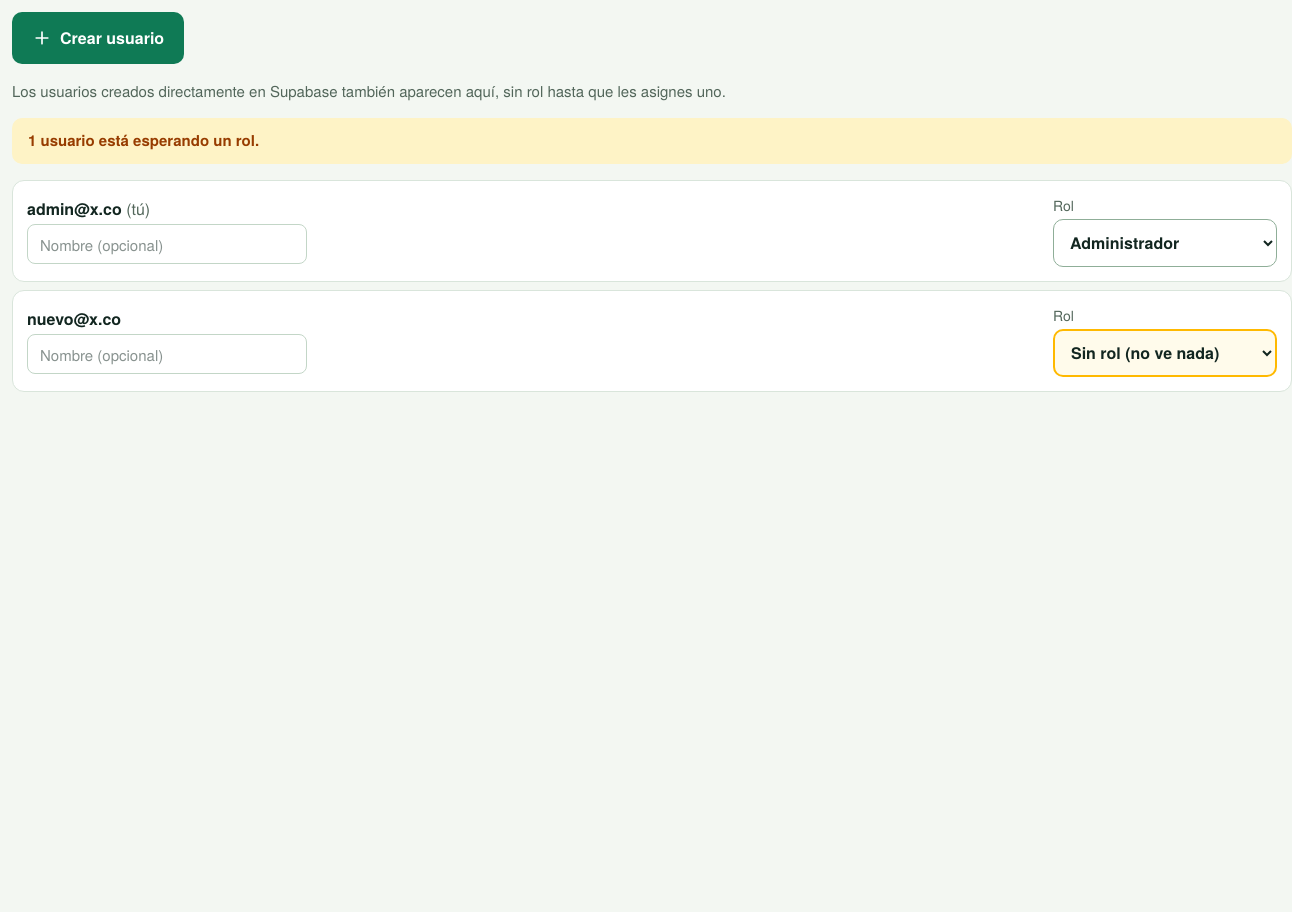
Crear usuario › si falla, muestra el motivo
Step 1. Click the button "Crear usuario" → x=98, y=38, box [12, 12, 184, 64]
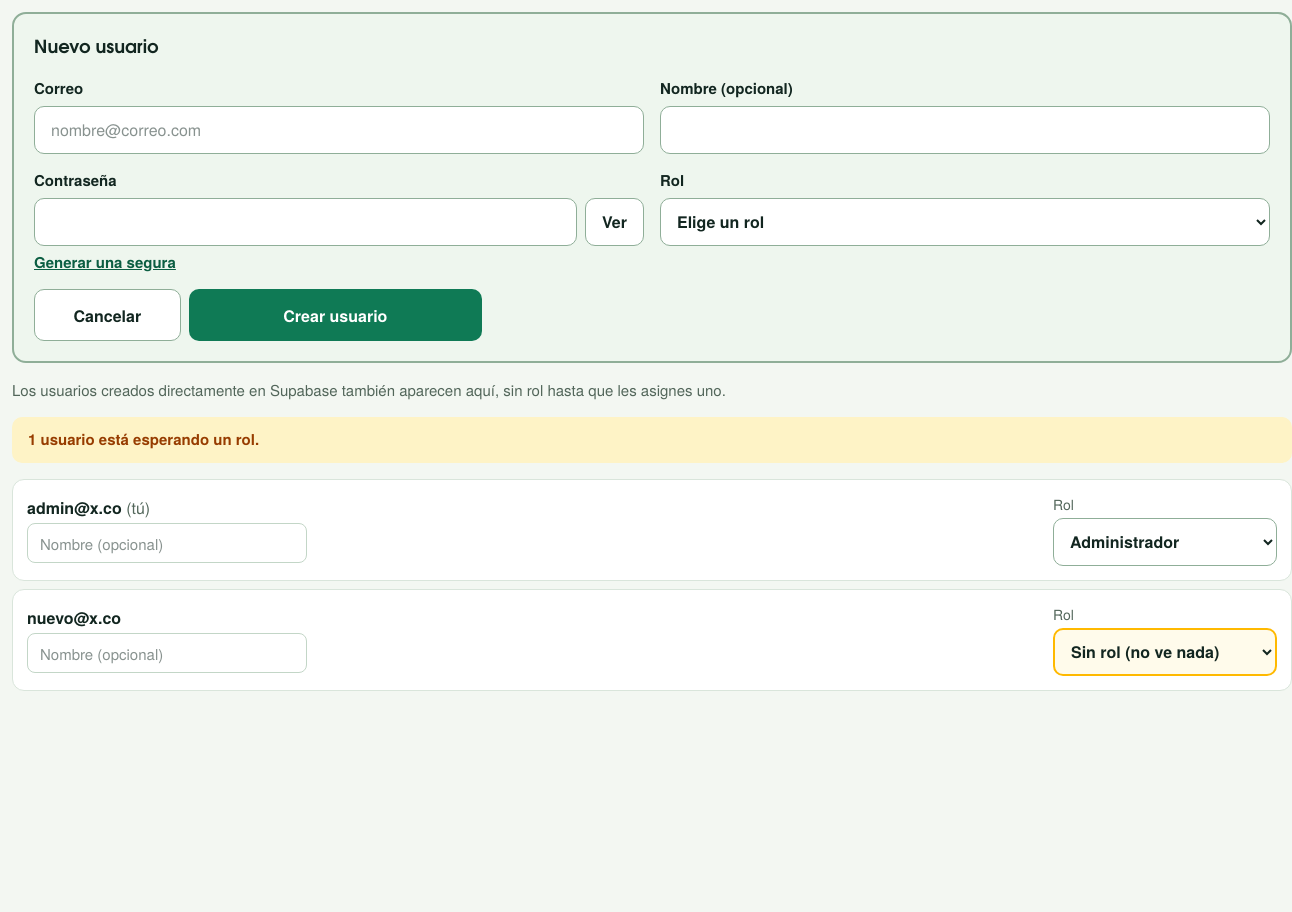
Step 2. Type "ana@x.co" into the field labelled "Correo" → x=339, y=130, box [34, 106, 644, 154]
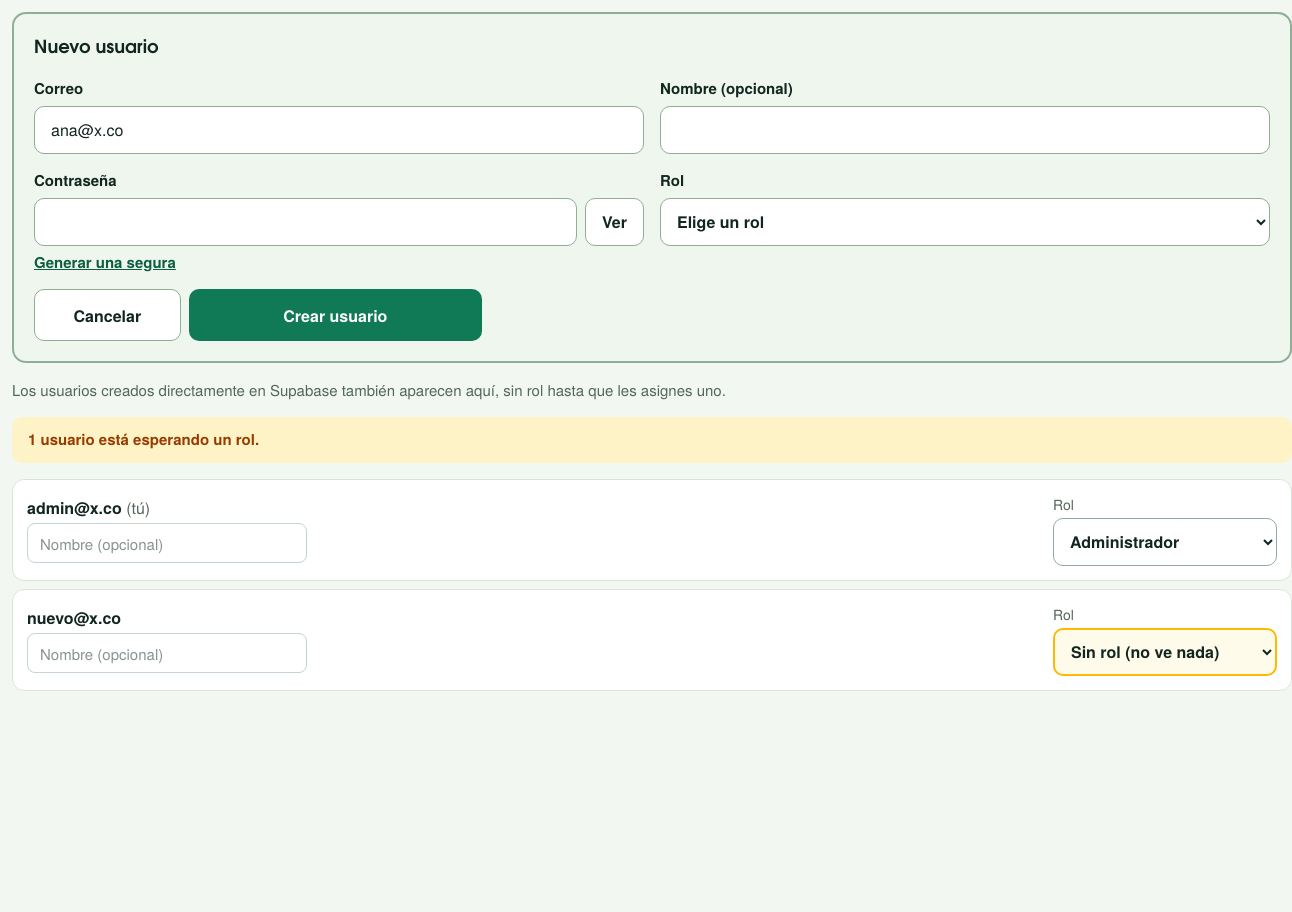
Step 3. Type "12345678" into the password field labelled "Contraseña" → x=305, y=222, box [34, 198, 577, 246]
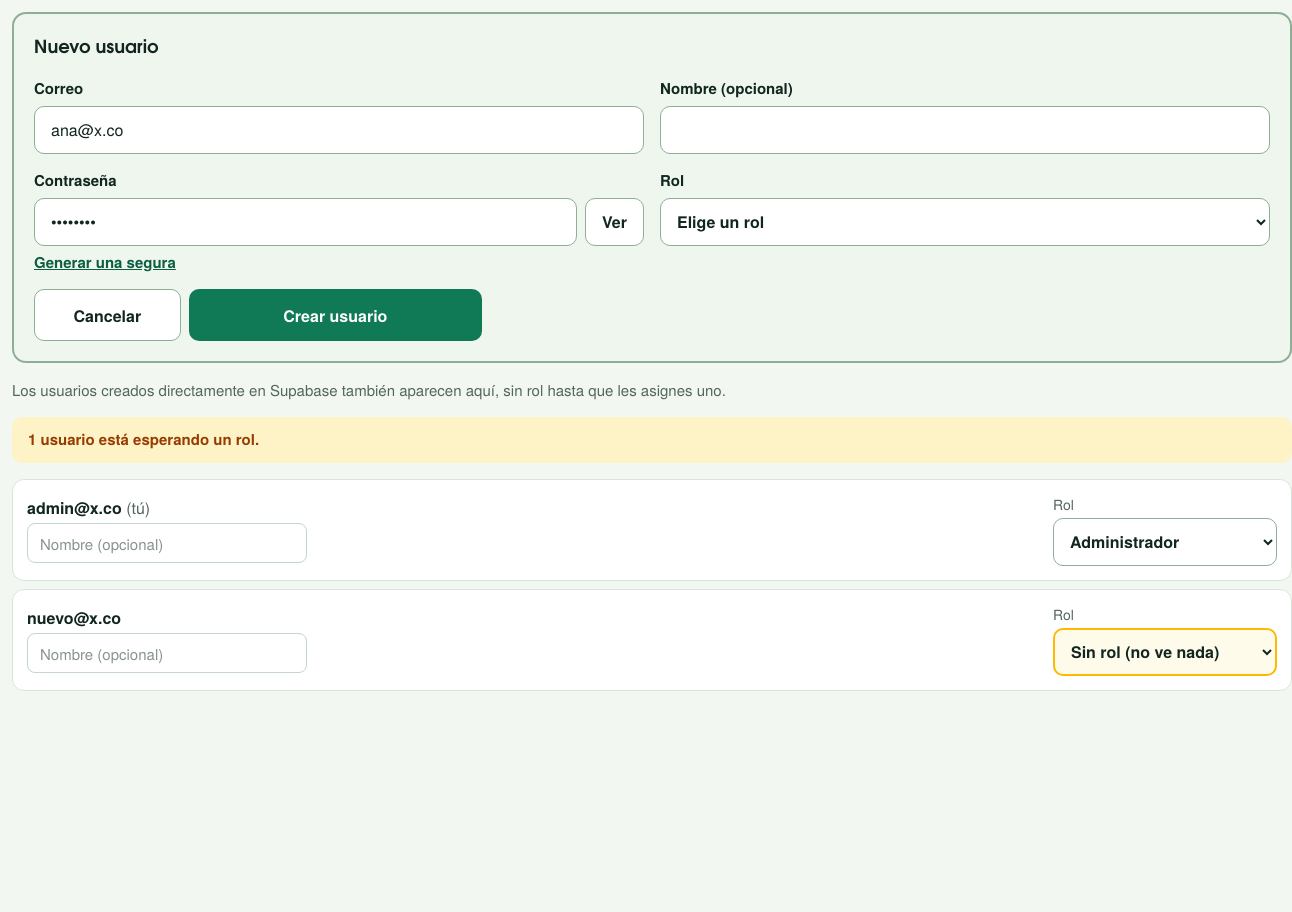
Step 4. Select "Tostador" in the dropdown labelled "Rol" below "Nombre (opcional)" → x=965, y=222, box [660, 198, 1270, 246]
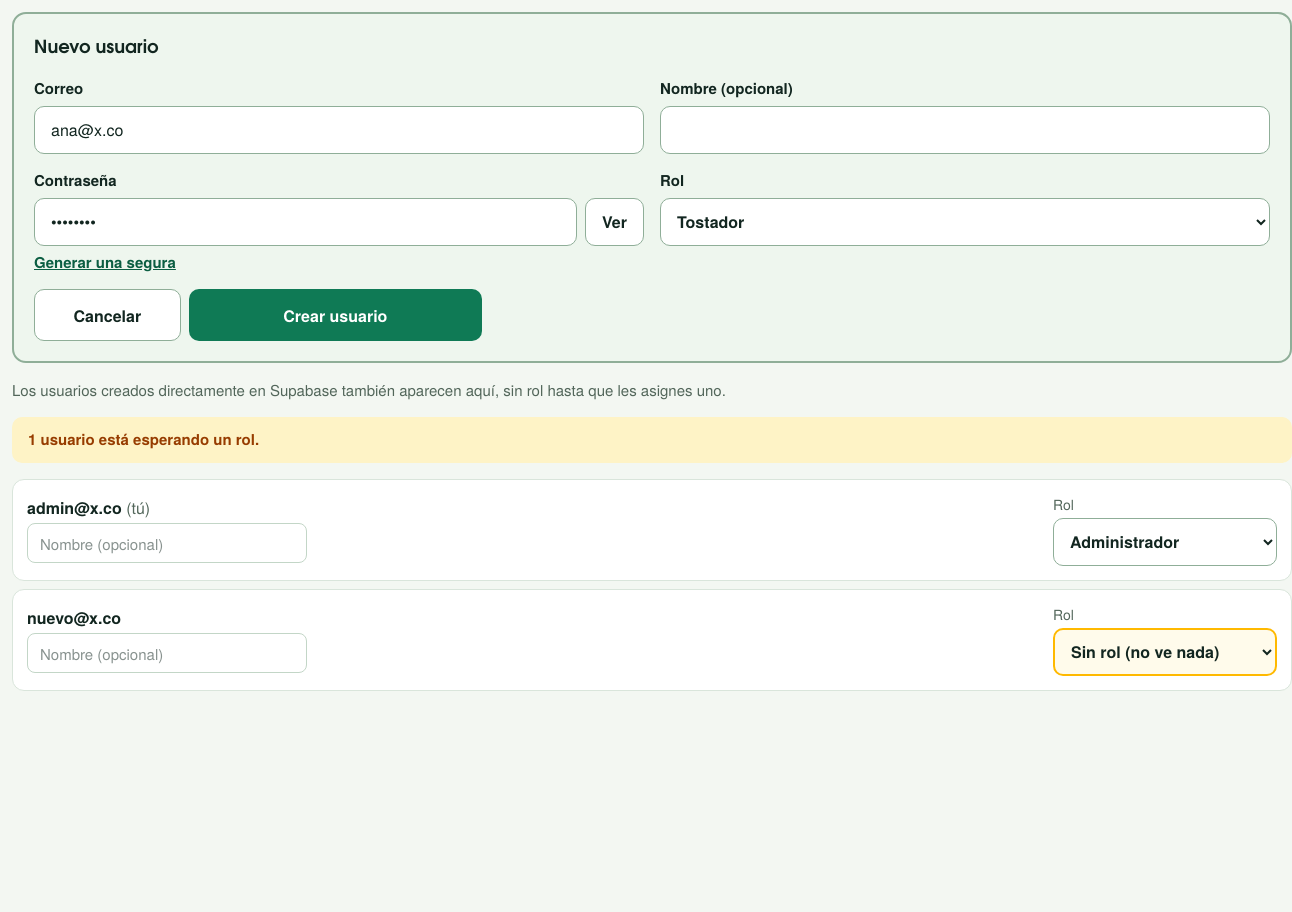
Step 5. Click the button "Crear usuario" → x=335, y=315, box [189, 289, 482, 341]
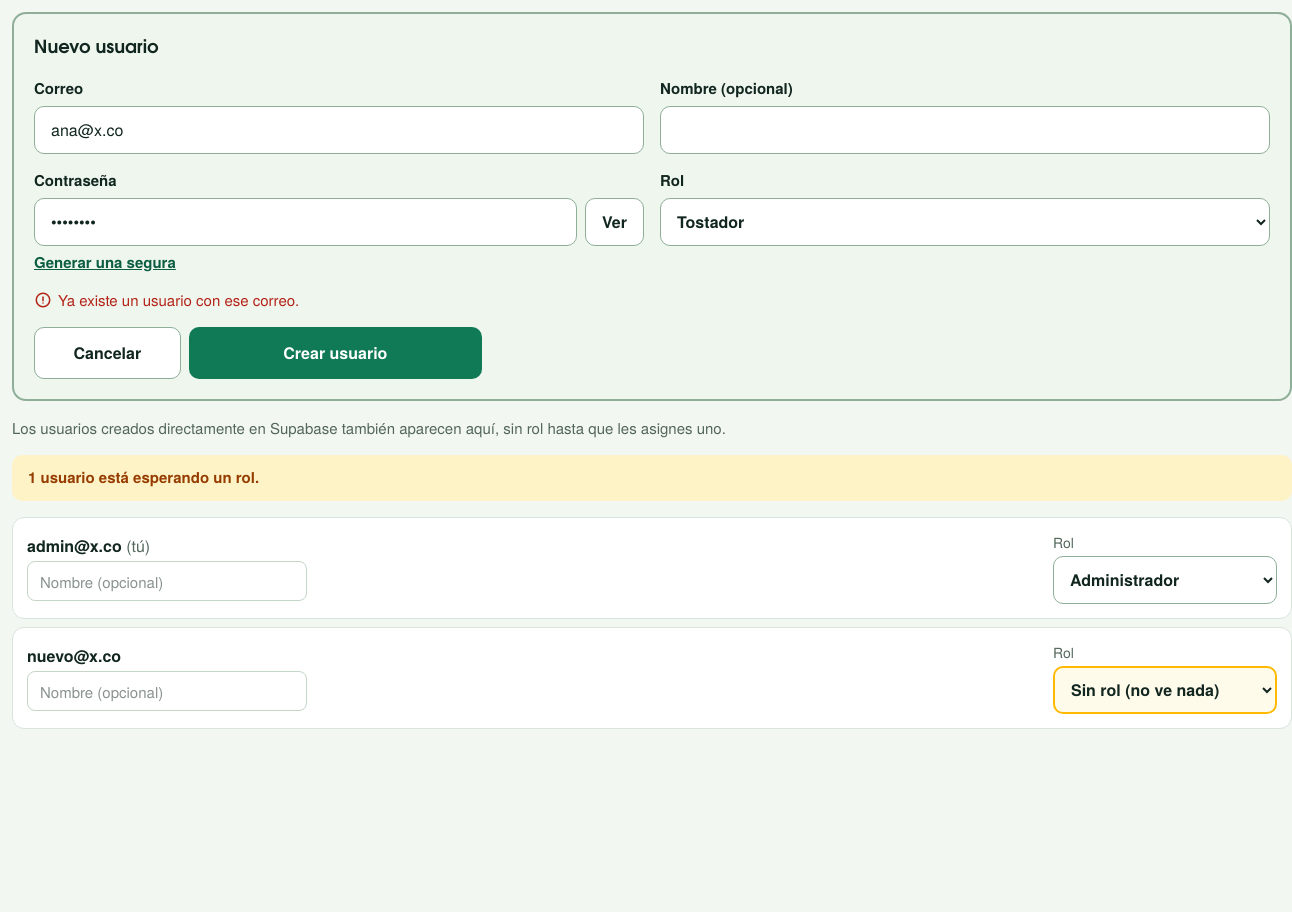
Expected: the text "Ya existe un usuario con ese correo." is shown, [34, 289, 299, 310]
